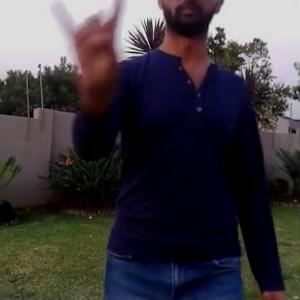takeoff-hand: (42, 0, 130, 98)
